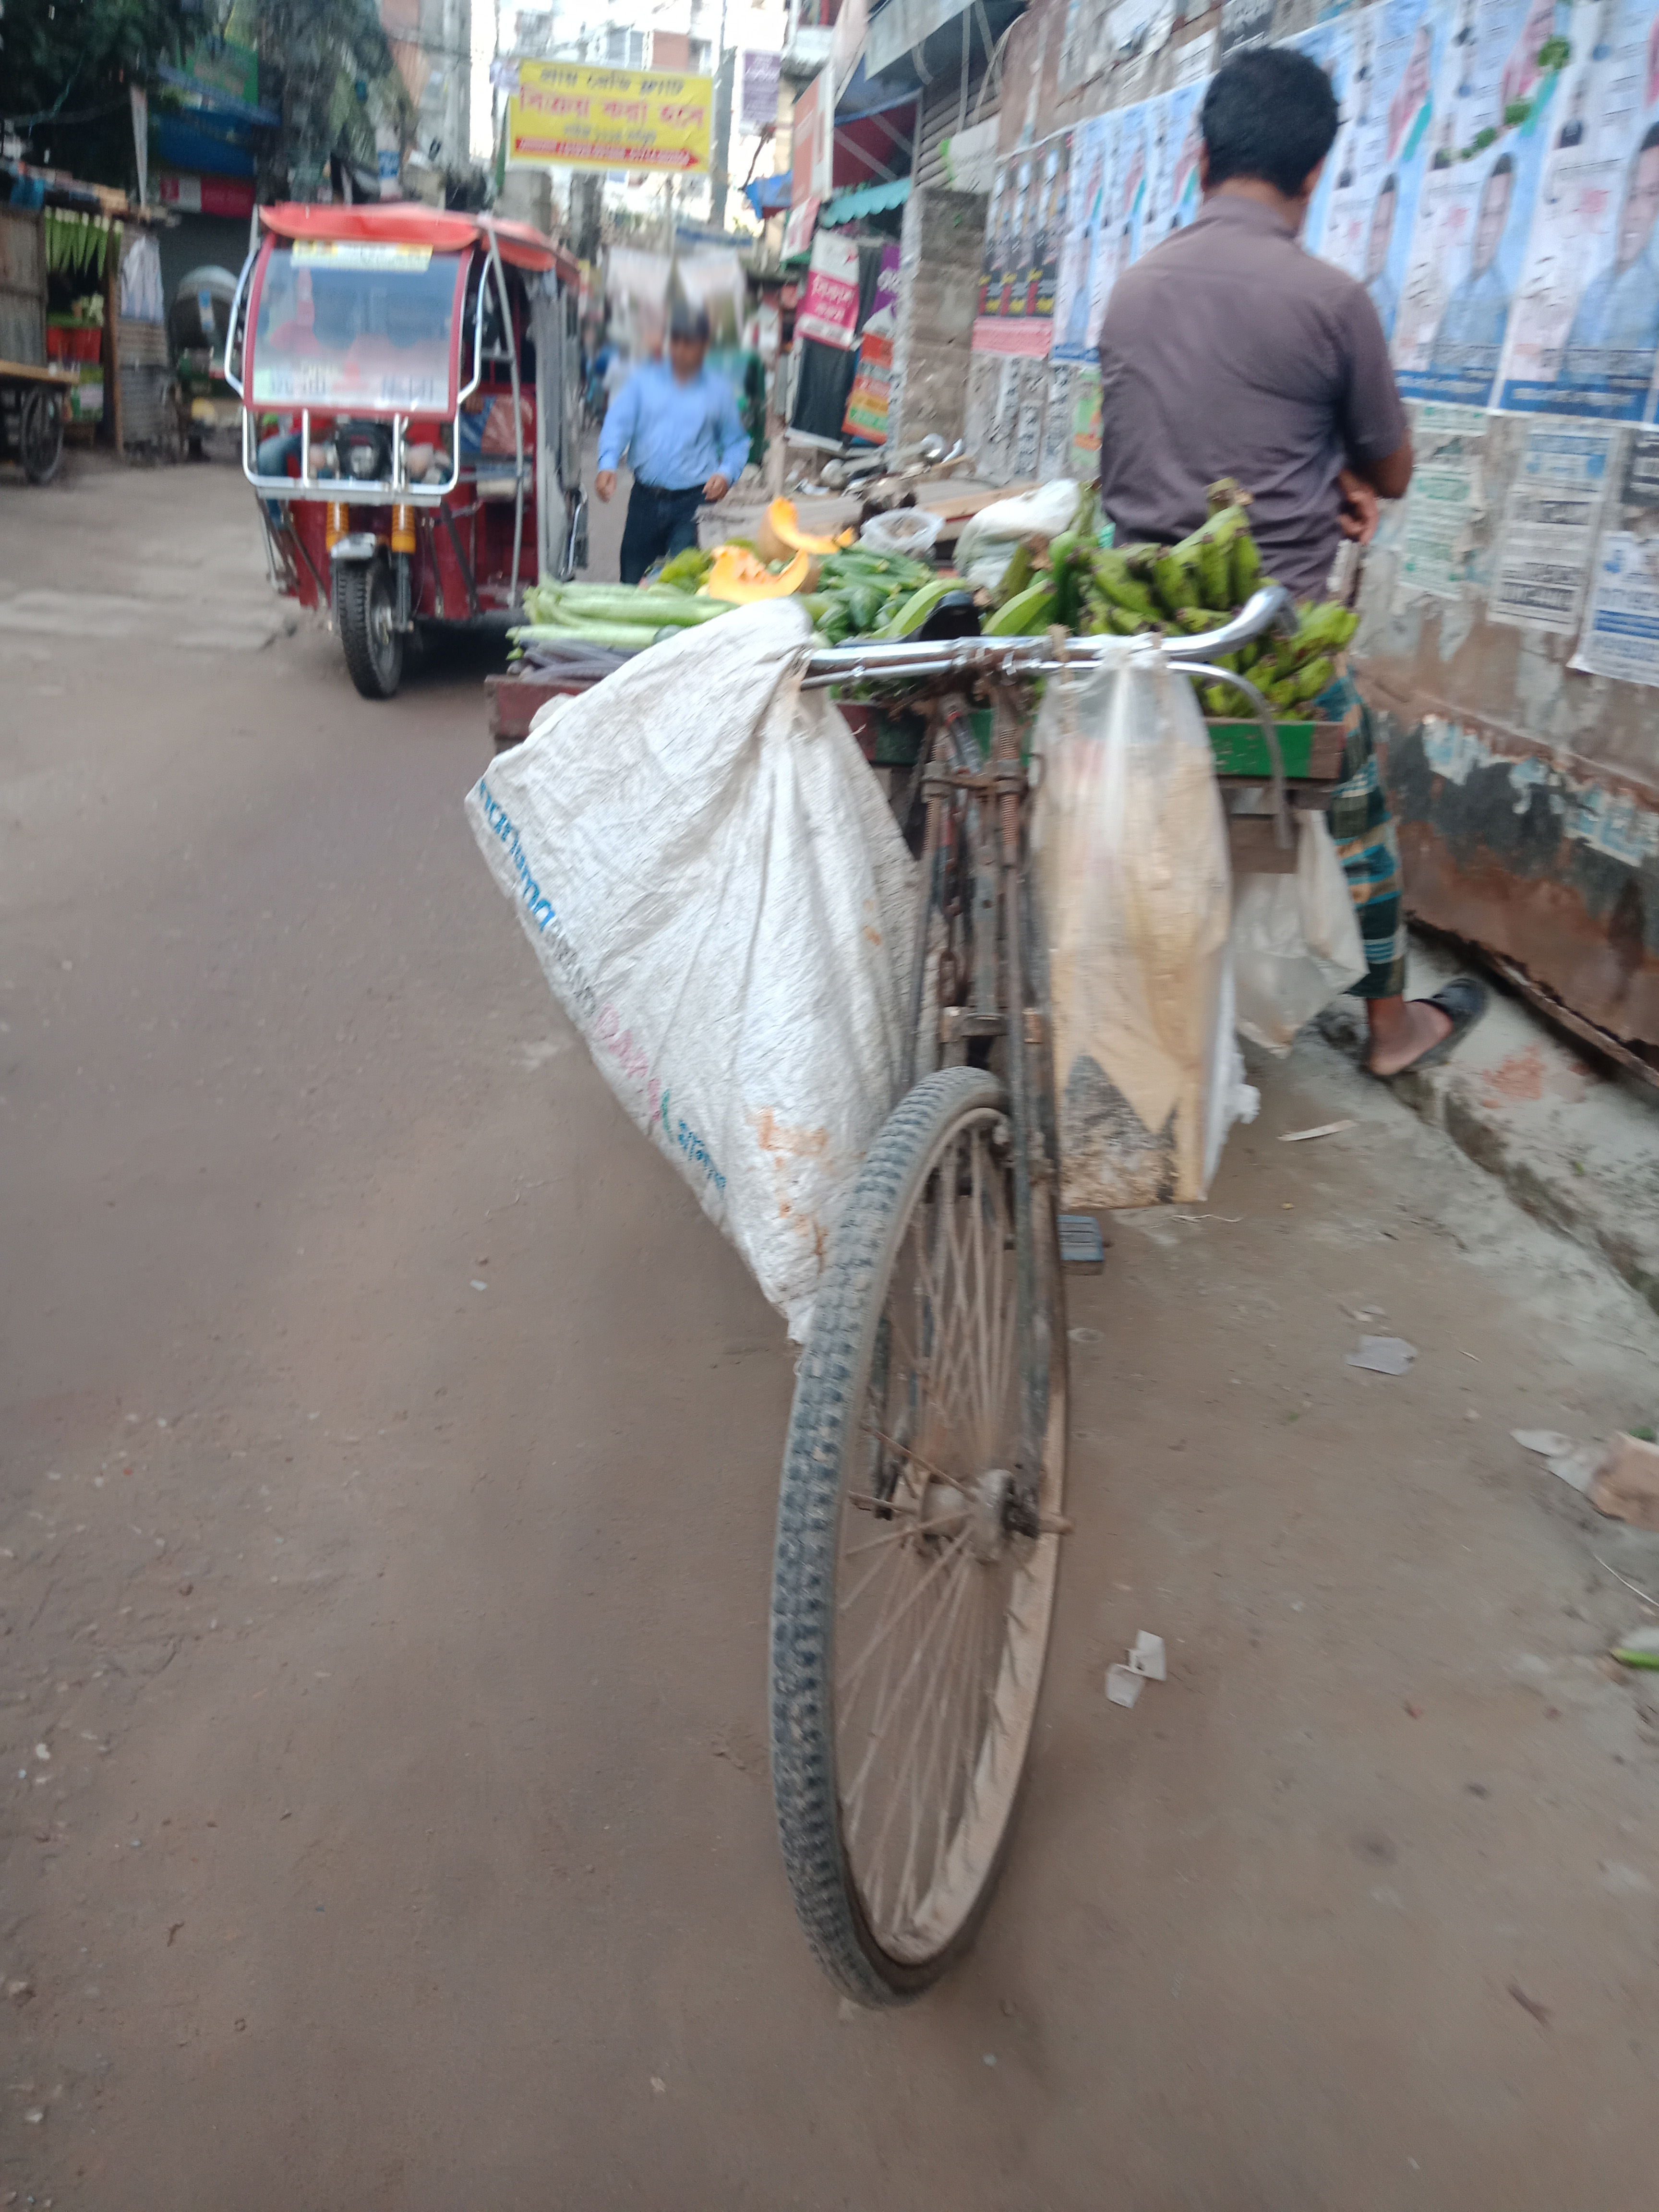easybike: (227, 199, 582, 707)
van: (490, 594, 1364, 2019), (688, 435, 1028, 563)
